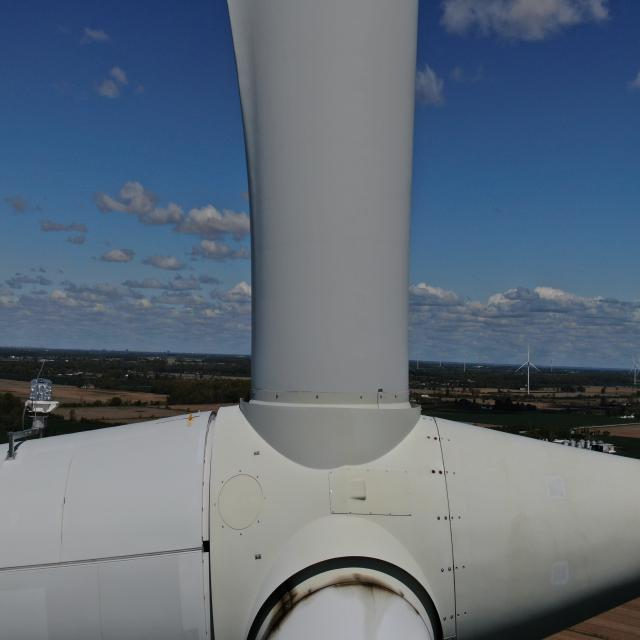damage: (334, 556, 404, 628), (258, 577, 320, 640)
